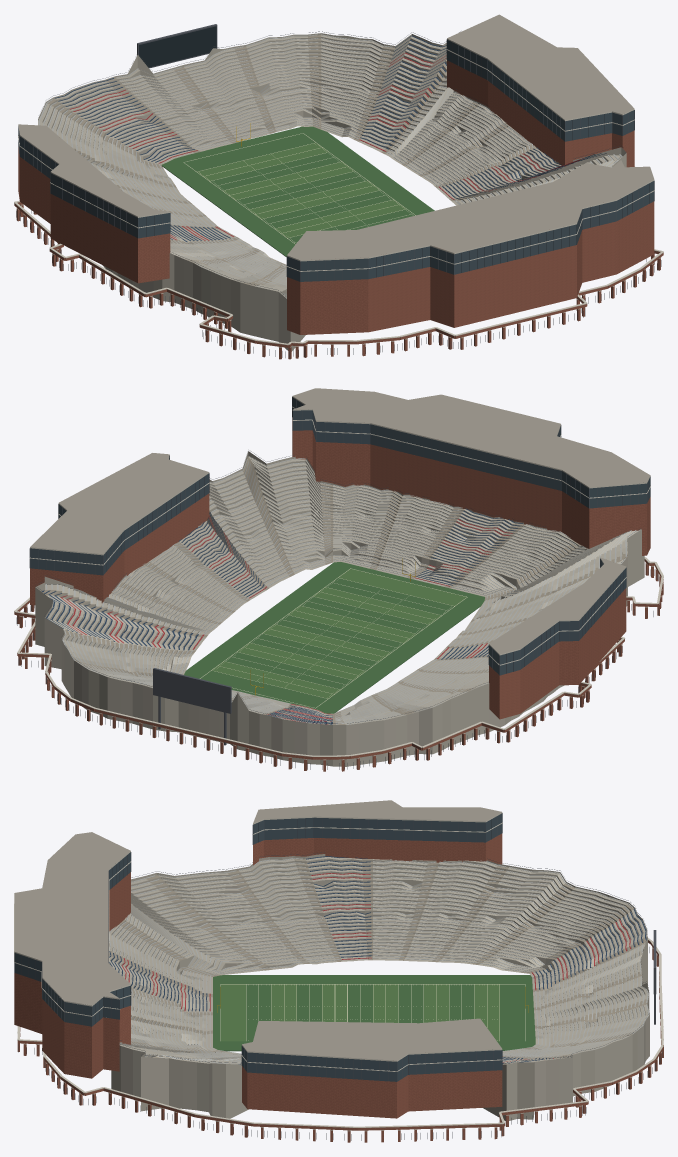
The model's file is stadium.glb.
3 renders of one model, top to bottom at view 1: azimuth 30°, elevation 25°; view 2: azimuth 150°, elevation 25°; view 3: azimuth 270°, elevation 25°, orthographic. The views are drawn at different scales.
Parts seen in each view (by area): view 1: Grandstand section 01, Concourse brick piers and gate lintels, Surveyed suite and press box 1, Hollingsworth Field and yard markings, Grandstand section 03, North videoboard; view 2: Grandstand section 01, Concourse brick piers and gate lintels, Surveyed suite and press box 1, Hollingsworth Field and yard markings, Grandstand section 03; view 3: Grandstand section 01, Surveyed suite and press box 1, Concourse brick piers and gate lintels, Hollingsworth Field and yard markings, Grandstand section 03.
Part boxes in pixels (bbox=[...]): Grandstand section 01: bbox=[38, 33, 626, 351]; Concourse brick piers and gate lintels: bbox=[14, 24, 663, 359]; Surveyed suite and press box 1: bbox=[18, 14, 654, 281]; Hollingsworth Field and yard markings: bbox=[161, 123, 434, 256]; Grandstand section 03: bbox=[54, 35, 606, 242]; North videoboard: bbox=[139, 26, 216, 67]; Grandstand section 01: bbox=[35, 451, 644, 766]; Concourse brick piers and gate lintels: bbox=[14, 396, 663, 771]; Surveyed suite and press box 1: bbox=[30, 388, 650, 675]; Hollingsworth Field and yard markings: bbox=[184, 558, 484, 713]; Grandstand section 03: bbox=[41, 508, 522, 724]; Grandstand section 01: bbox=[109, 854, 649, 1120]; Surveyed suite and press box 1: bbox=[14, 800, 502, 1081]; Concourse brick piers and gate lintels: bbox=[14, 812, 663, 1142]; Hollingsworth Field and yard markings: bbox=[213, 975, 535, 1051]; Grandstand section 03: bbox=[109, 856, 646, 1064].
Bounding box in the file's own units: 217 × 38.94 × 234.
Materials: 15 (1 with a texture image).
